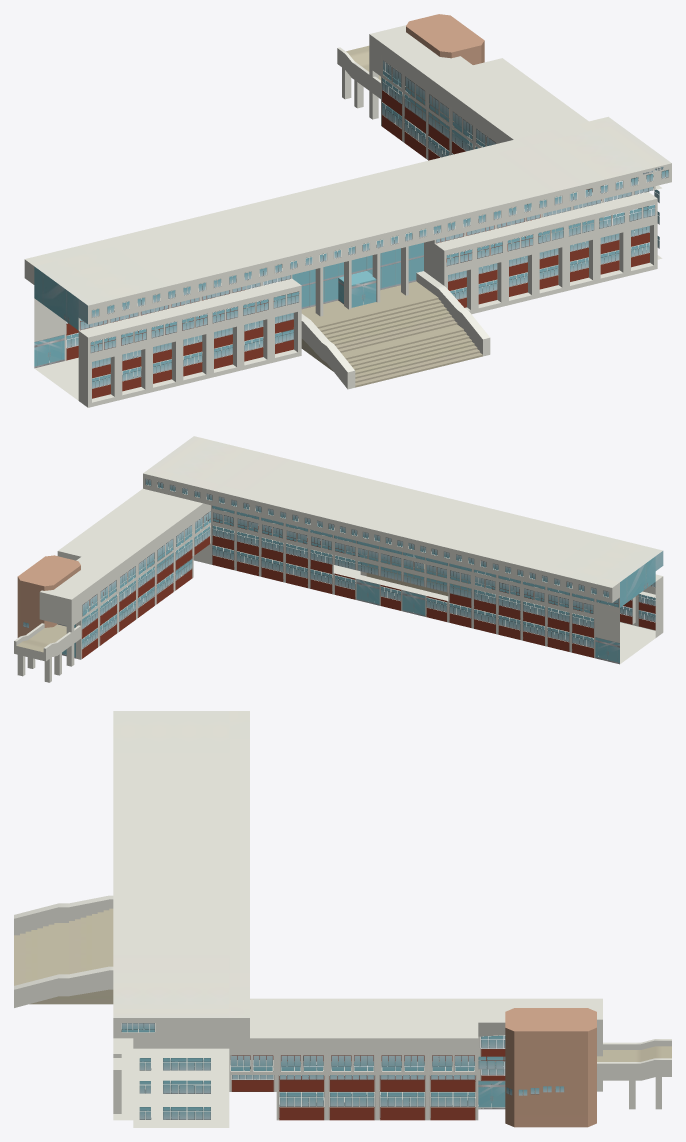
File: building_woncheon.fbx
3 views of the same model, one above another, from view 1: azimuth 30°, elevation 25°; view 2: azimuth 150°, elevation 25°; view 3: azimuth 270°, elevation 25° (orthographic). The views are drawn at different scales.
Parts seen in each view (by area): view 1: building_woncheon; view 2: building_woncheon; view 3: building_woncheon.
Boxes of the visible parts, <box> form: building_woncheon: <box>24,14,671,407</box>; building_woncheon: <box>14,436,663,682</box>; building_woncheon: <box>14,711,671,1127</box>.
Size of the model in its own units: 4.92 by 0.7957 by 4.31.
1 material, 1 textured.
